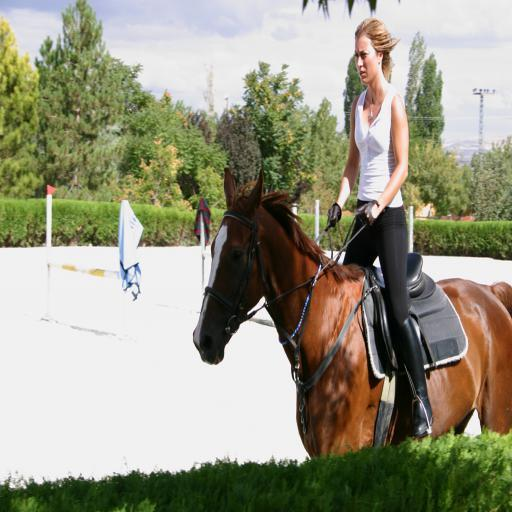horse: (192, 164, 512, 458)
